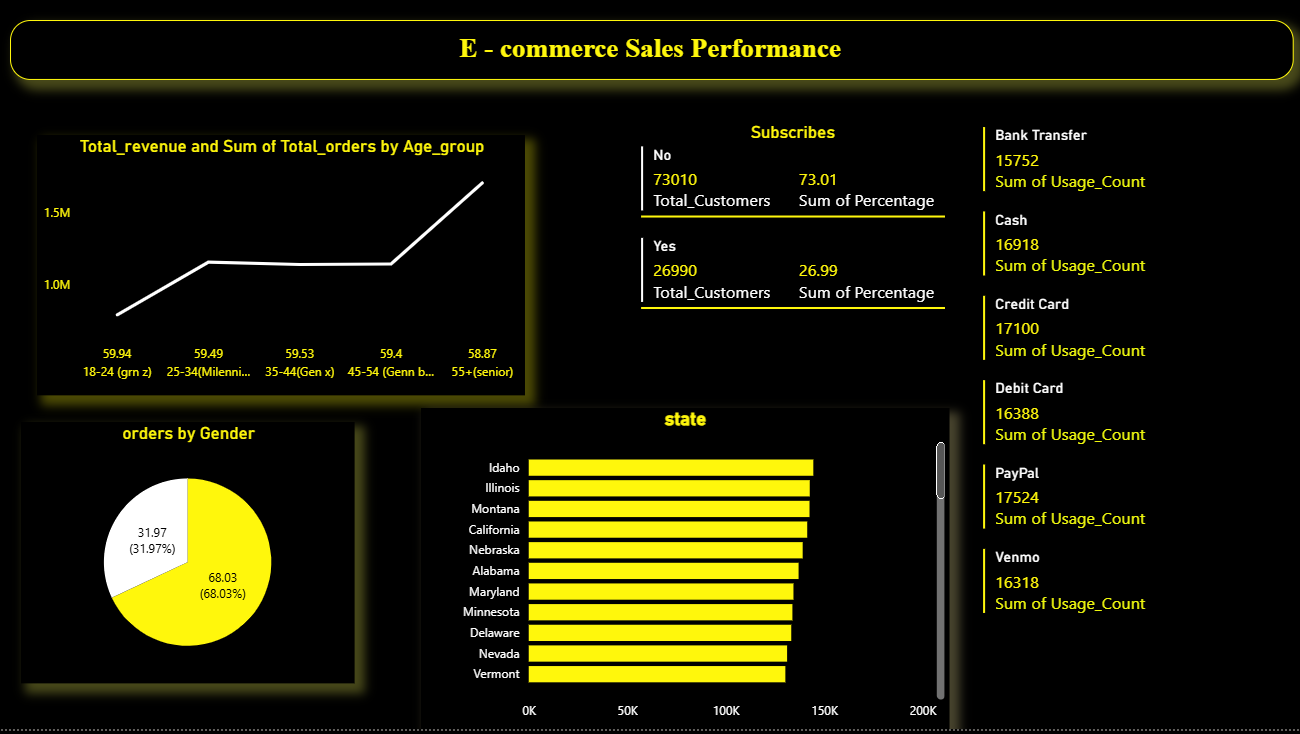

Layout of this report page (visuals, bound fields, positions):
{"tool":"powerbi","page":{"name":"Page 1","canvas":[1280,720],"ordinal":0},"visuals":[{"type":"textbox","box":[9.7,22.4,1263.5,59.3],"z":0},{"type":"lineStackedColumnComboChart","title":" Total_revenue and Sum of Total_orders by Age_group ","fields":{"Category":["sel q1.Age_group","sel q1.avg_spent_per_order_in_USD"],"Y2":["Sum(sel q1.Total_revenue)"]},"box":[36.4,135.8,480.1,255.8],"z":1000},{"type":"pieChart","title":"orders by Gender","fields":{"Category":["sel Q 2.Gender"],"Y":["Sum(sel Q 2.percentage_of_orders)"]},"box":[20.4,418.2,327.8,256.8],"z":2000},{"type":"clusteredBarChart","title":"state","fields":{"Category":["sel Q 3.state"],"Y":["Sum(sel Q 3.Totao_Revenue)"]},"box":[414.2,404.4,520.5,315.8],"z":3000},{"type":"multiRowCard","title":"Subscribes","fields":{"Values":["sel Q 5.Subscription_Status","sel Q 5.Total_Customers","Sum(sel Q 5.Percentage)"]},"box":[625.7,123,308.9,208.6],"z":4000},{"type":"multiRowCard","fields":{"Values":["sel  Q12.Payment_Method","Sum(sel  Q12.Usage_Count)"]},"box":[962.2,123,310.9,532.3],"z":5000}]}

Visuals, with their boxes in screenshot pixels (x1, y1, x2, y2), scaled from the page's 1280x720 canvas onto the 1300x734 screenshot:
textbox: bbox=(10, 23, 1293, 83)
" Total_revenue and Sum of Total_orders by Age_group " lineStackedColumnComboChart: bbox=(37, 138, 525, 399)
"orders by Gender" pieChart: bbox=(21, 426, 354, 688)
"state" clusteredBarChart: bbox=(421, 412, 949, 733)
"Subscribes" multiRowCard: bbox=(635, 125, 949, 338)
multiRowCard - sel  Q12.Payment_Method x Sum(sel  Q12.Usage_Count): bbox=(977, 125, 1293, 668)
